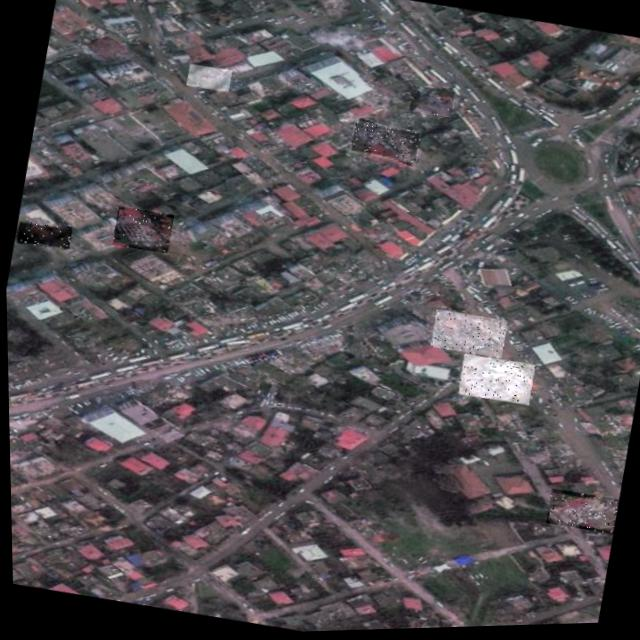Rubble: (455, 354, 535, 410), (428, 309, 507, 362), (543, 489, 617, 538), (348, 120, 422, 167), (111, 205, 173, 255), (15, 218, 72, 252), (407, 84, 456, 122), (186, 63, 234, 94)
